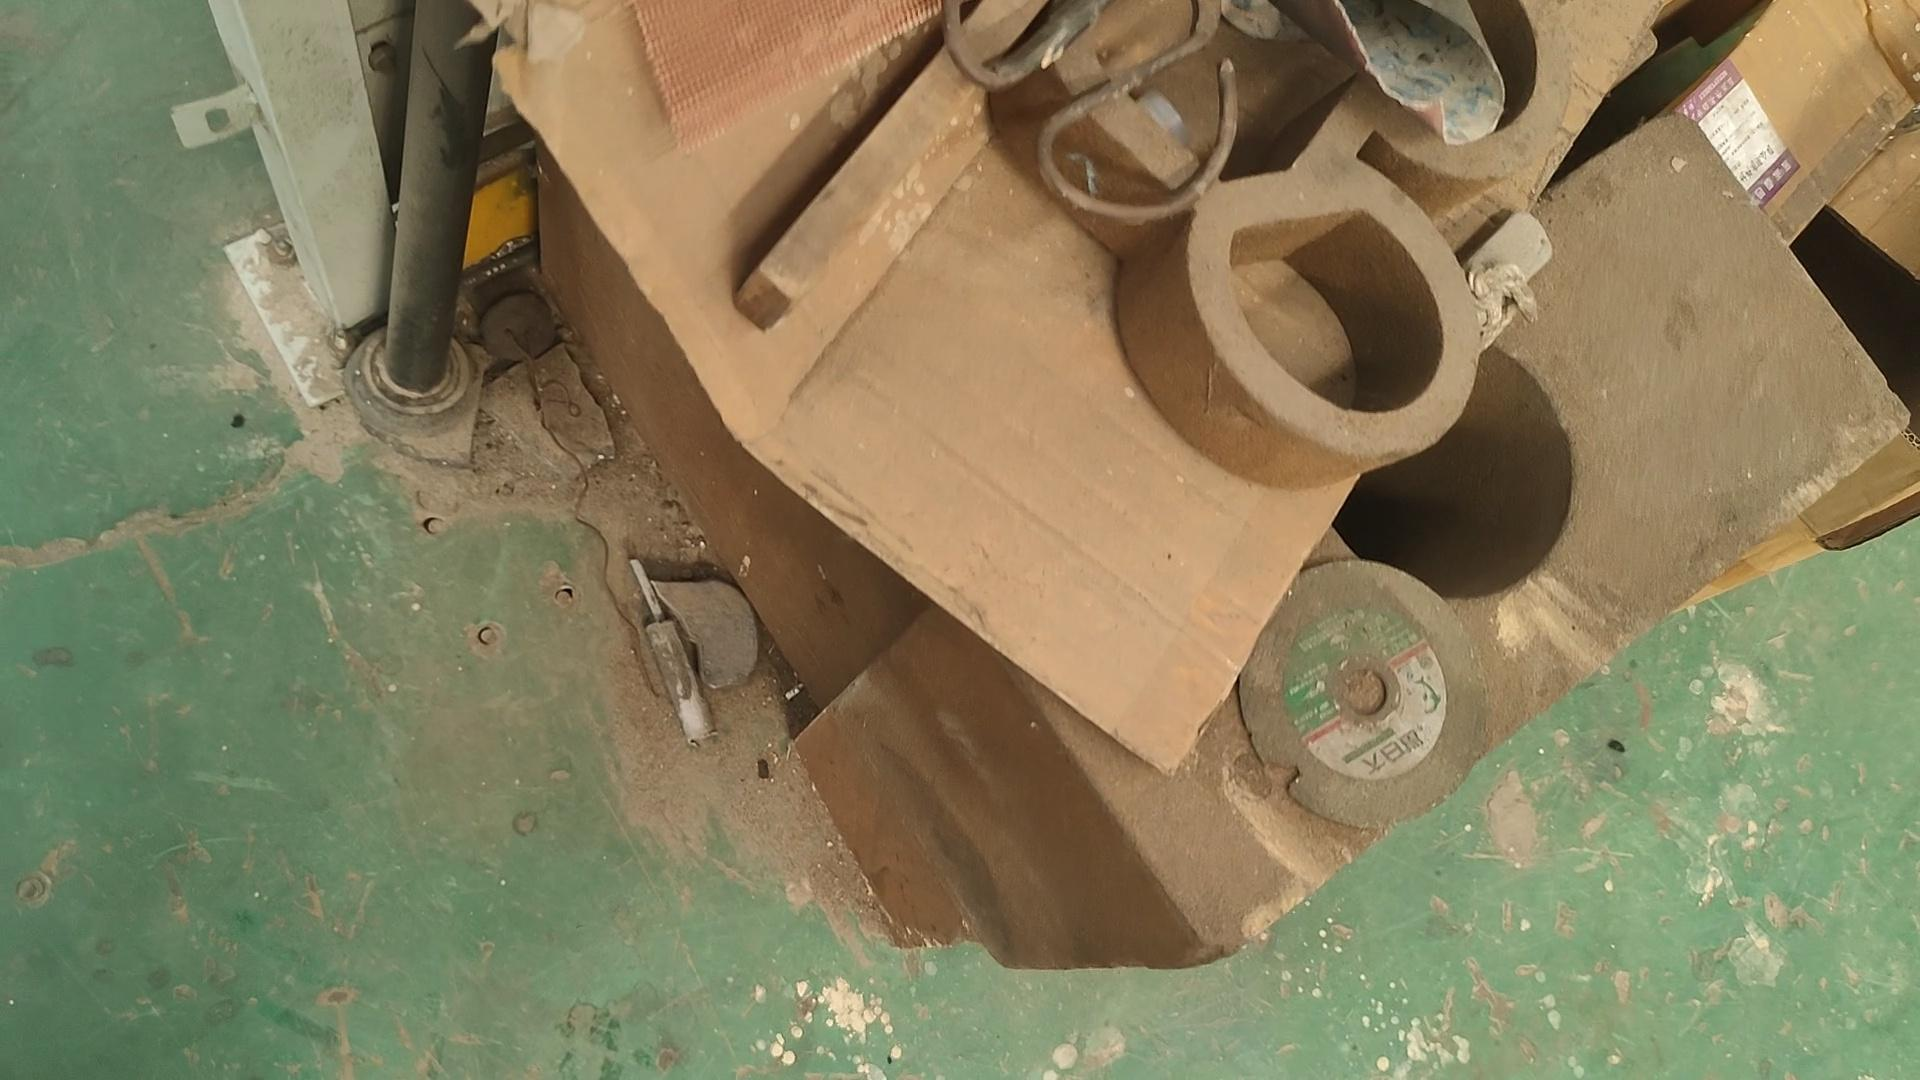pouring hole: (1320, 334, 1575, 600)
